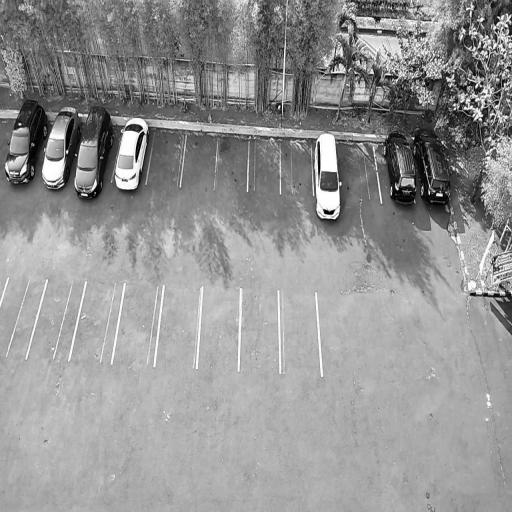Car: (68, 101, 117, 203), (34, 100, 85, 197), (0, 94, 52, 186), (410, 125, 455, 202), (110, 112, 152, 191), (379, 126, 421, 204), (312, 131, 344, 222)
Space Available: (26, 277, 87, 360), (69, 279, 124, 363), (113, 283, 164, 365), (154, 284, 202, 368), (0, 276, 47, 359), (197, 284, 240, 370), (278, 291, 322, 374), (238, 288, 280, 371), (145, 130, 187, 186), (181, 134, 218, 188), (214, 136, 249, 190), (280, 140, 313, 195), (247, 139, 280, 194)
